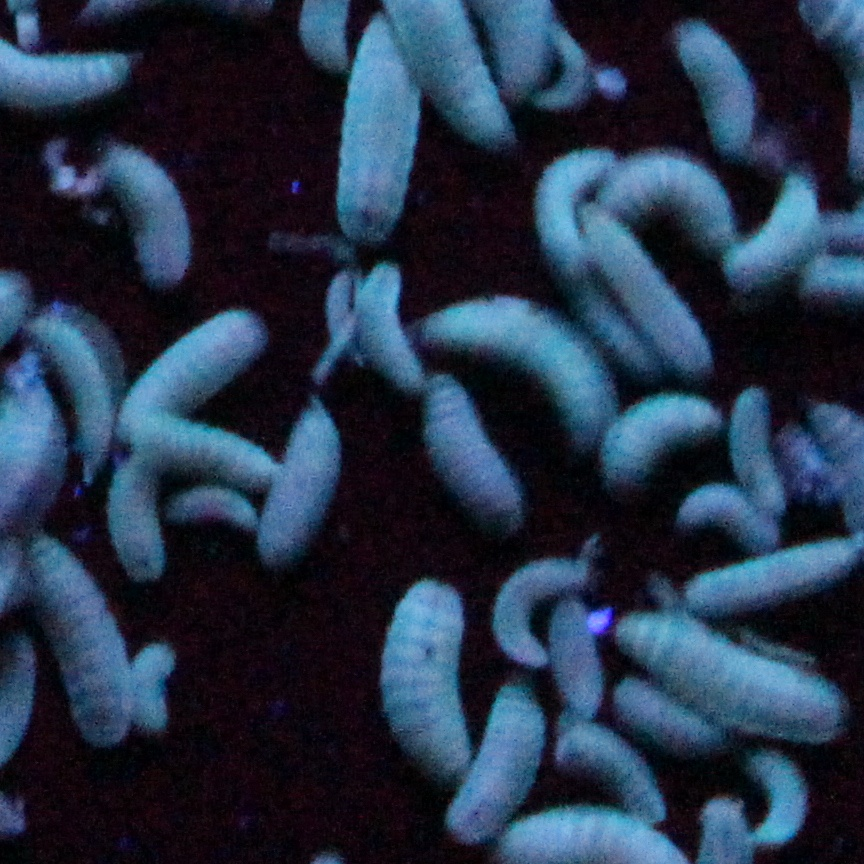larve: (605, 599, 849, 748), (106, 298, 271, 458), (362, 570, 480, 778), (20, 527, 131, 747), (442, 670, 556, 849), (335, 5, 420, 242), (405, 365, 521, 532), (22, 303, 129, 482), (249, 385, 341, 578), (98, 148, 205, 291), (664, 16, 766, 155), (605, 383, 726, 493), (723, 167, 821, 294), (528, 130, 605, 283), (351, 265, 430, 396), (745, 741, 822, 854), (124, 633, 176, 746)
